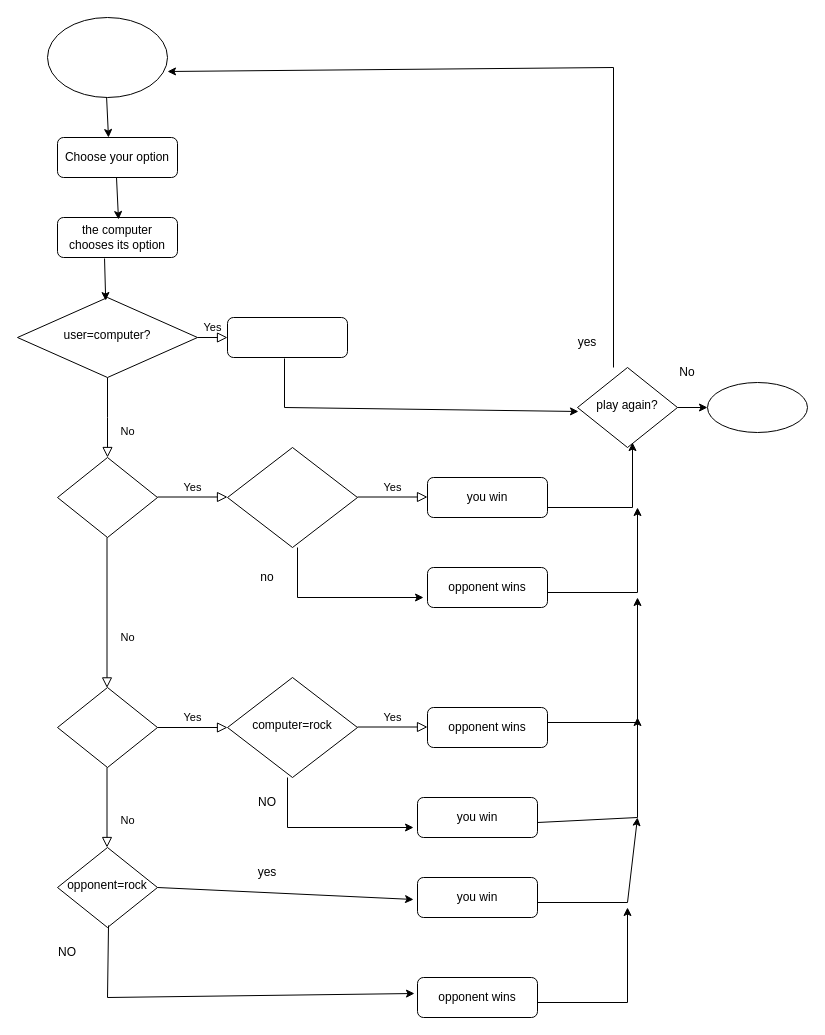
Some shapes in this 825 by 1035 pixel diagram are drawn without their labels. The centre of each missing label's shape, as x and y in pixels:
computer=scissors: point (292, 497)
end: point (757, 407)
start: point (107, 57)
tie: point (287, 337)
you=rock: point (107, 497)
you=scissors?: point (107, 727)
